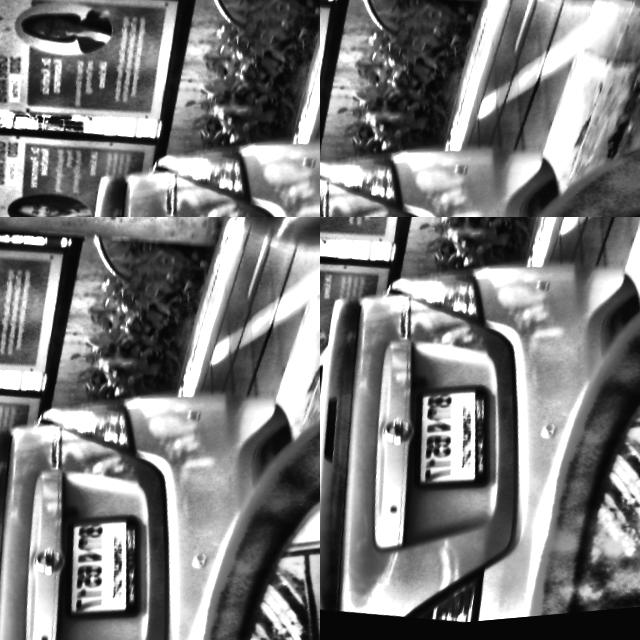license-plate: (393, 381, 496, 503)
